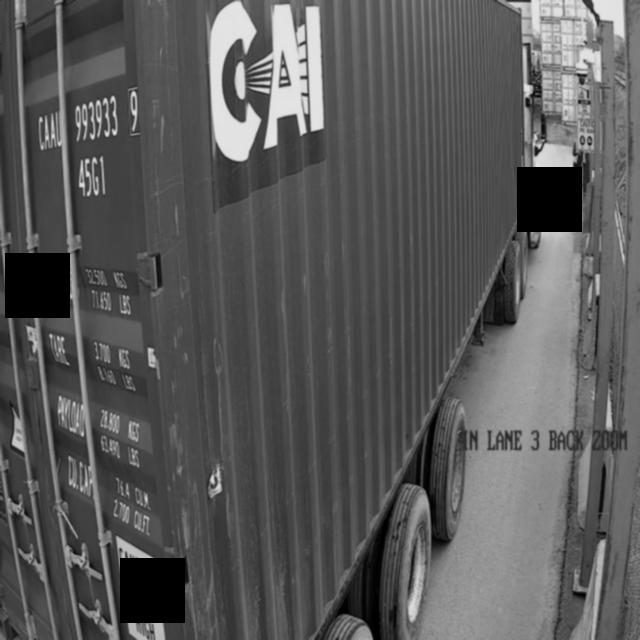container_company_logo: (196, 0, 362, 201)
container_number: (30, 64, 165, 640)
truck_with_container: (0, 0, 546, 640)
